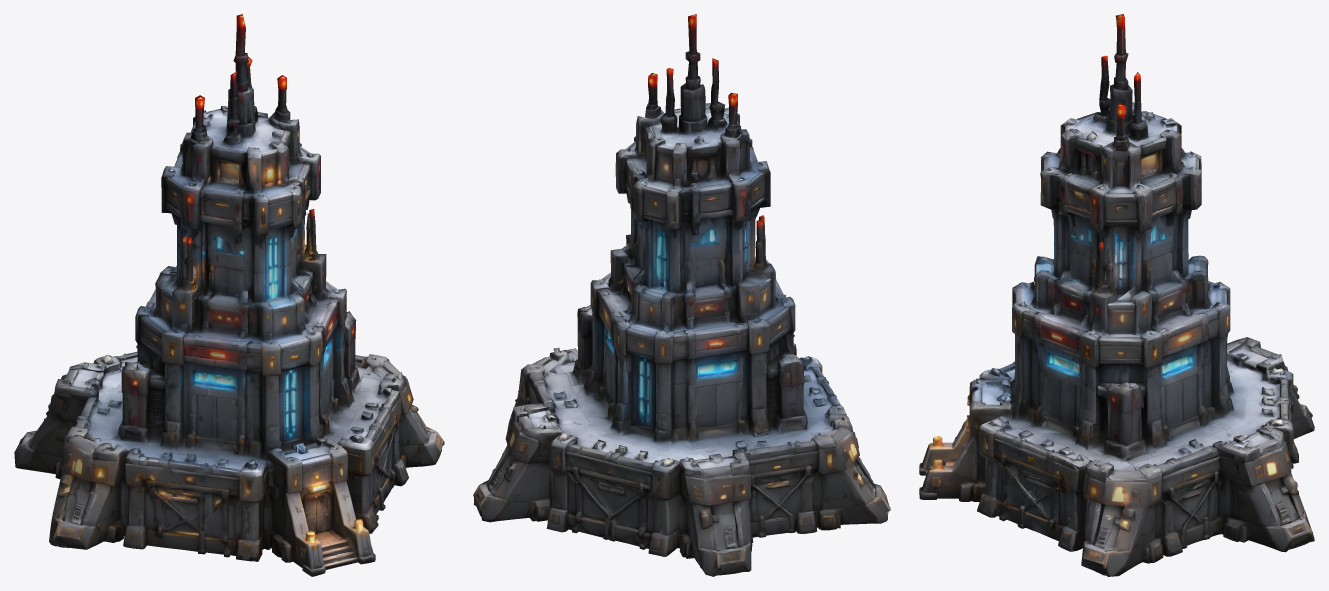
The model's file is futuristic_tower_3d_model.fbx.
The picture shows the model from 3 angles, left to right: view 1: azimuth 30°, elevation 25°; view 2: azimuth 150°, elevation 25°; view 3: azimuth 270°, elevation 25°; orthographic projection. The views are drawn at different scales.
Visible parts, largest first — view 1: tripo_node_baca9873; view 2: tripo_node_baca9873; view 3: tripo_node_baca9873.
Part boxes in pixels (<box>): tripo_node_baca9873: <box>14,14,444,576</box>; tripo_node_baca9873: <box>473,14,890,576</box>; tripo_node_baca9873: <box>919,14,1314,576</box>.
Size of the model in its own units: 0.8557 by 1 by 0.7648.
